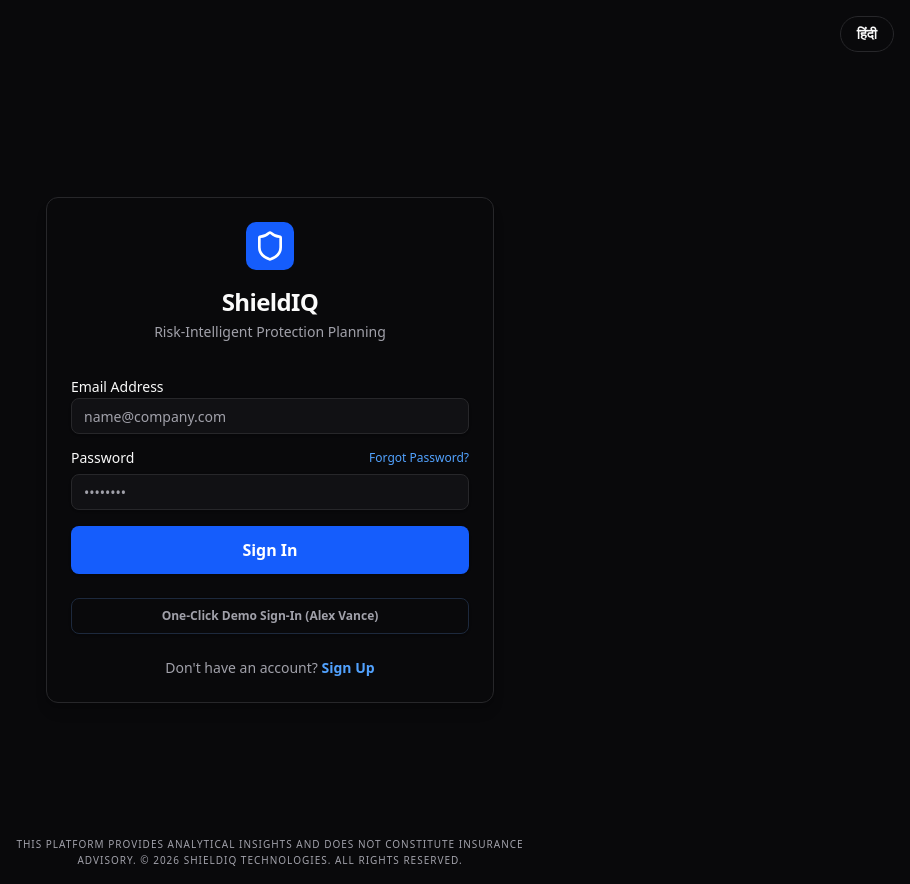
Test: switching language › shows the sign-in screen in Hindi, sets lang="hi", remembers the choice and translates server errors
Click the button "हिंदी" at (867, 34), box [840,16,894,52]
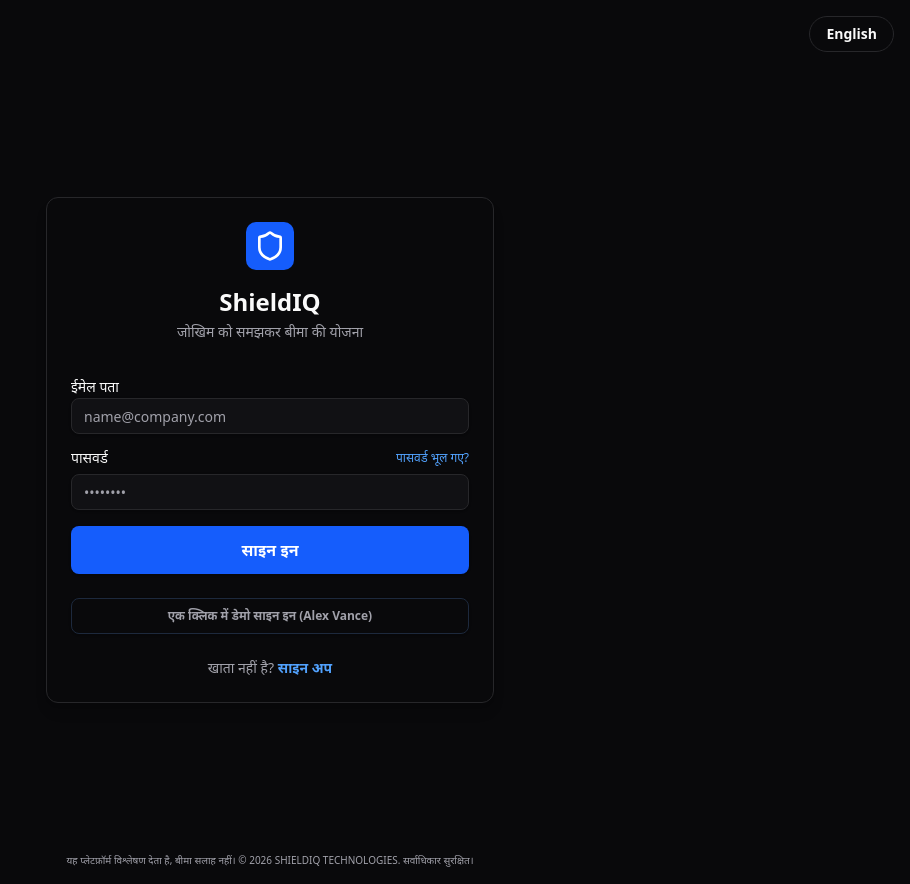
Now the button "साइन इन" is shown, box [71,526,469,574]
Type "a@b.com" into the field labelled "ईमेल पता" at (270, 416), box [71,398,469,434]
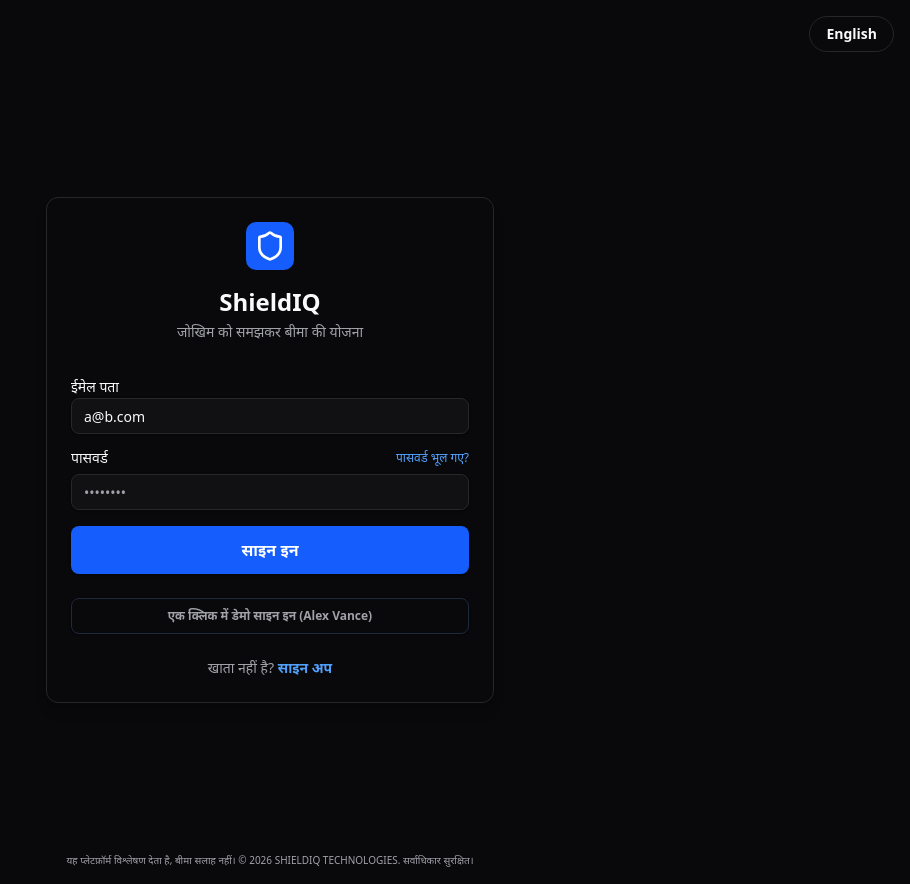
Type "wrong-pass" into the password field labelled "पासवर्ड" at (270, 492), box [71,474,469,510]
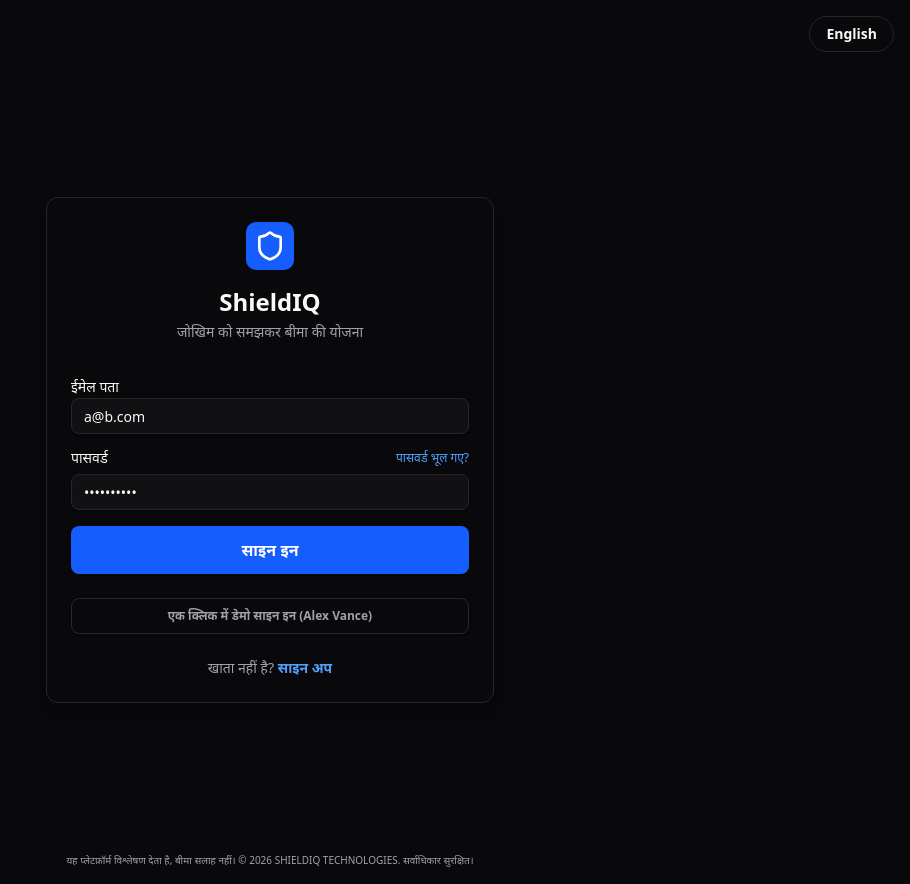
Click the button "साइन इन" at (270, 550), box [71,526,469,574]
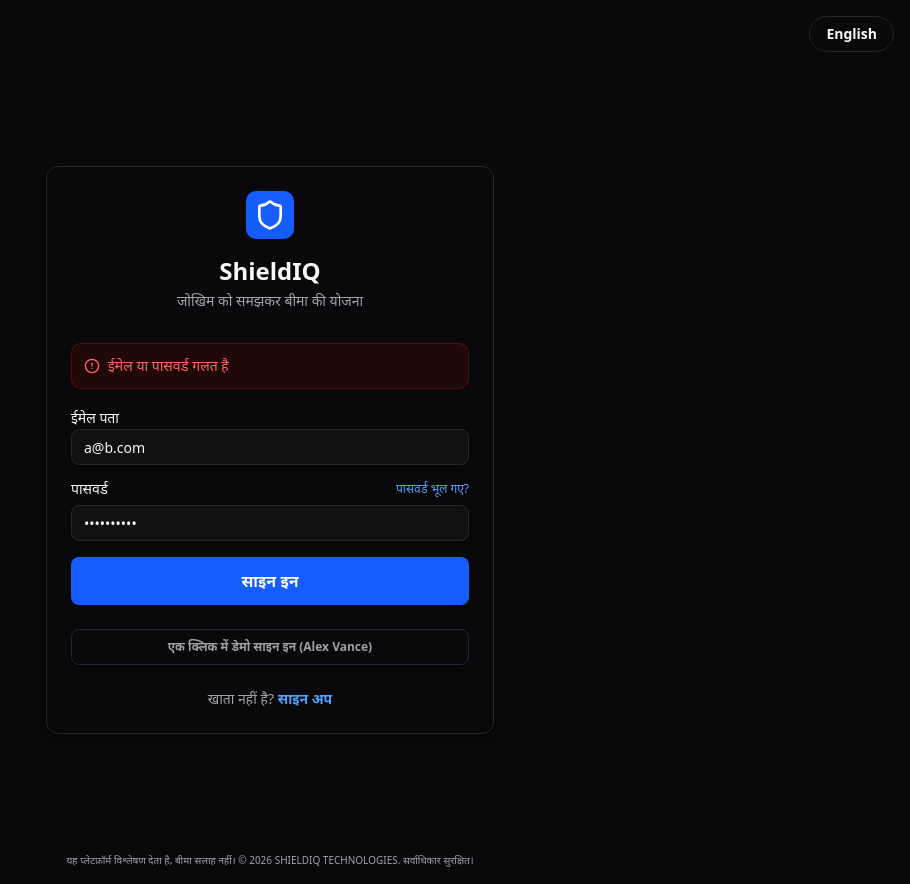
Now the text "ईमेल या पासवर्ड गलत है" is shown, box [108,356,229,376]
